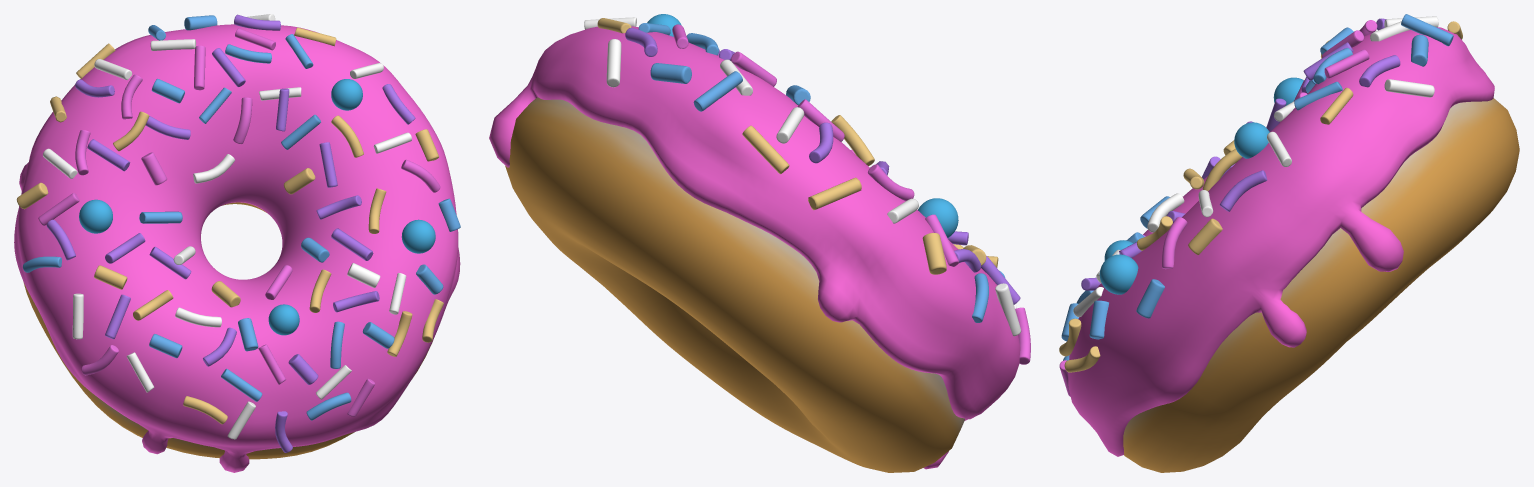
The model's file is donut.glb.
3 renders of one model, left to right at view 1: azimuth 30°, elevation 25°; view 2: azimuth 150°, elevation 25°; view 3: azimuth 270°, elevation 25°, orthographic. The views are drawn at different scales.
Visible parts, largest first — view 1: icing, donut, Sphere.003, Sphere.001, Sphere.004, Sphere.002, sprinkle.008, sprinkle.010, curved sprinkle.017, curved sprinkle.009, curved sprinkle.026, curved sprinkle.020 (+43 smaller); view 2: donut, icing, Sphere.003, sprinkle.016, sprinkle.017, sprinkle.019, fat sprinkle.005, curved sprinkle.021, fat sprinkle.015, sprinkle.007, sprinkle.006, curved sprinkle.002 (+5 smaller); view 3: icing, donut, Sphere.001, Sphere.004, curved sprinkle.004, sprinkle.019, curved sprinkle.018, sprinkle.007, fat sprinkle.016, fat sprinkle.009, curved sprinkle.028, curved sprinkle.005 (+8 smaller).
Part boxes in pixels (bbox=[...]): icing: bbox=[14, 24, 460, 472]; donut: bbox=[23, 202, 432, 459]; Sphere.003: bbox=[79, 199, 112, 233]; Sphere.001: bbox=[401, 219, 435, 253]; Sphere.004: bbox=[331, 79, 362, 110]; Sphere.002: bbox=[268, 304, 299, 335]; sprinkle.008: bbox=[331, 228, 373, 260]; sprinkle.010: bbox=[87, 139, 130, 171]; curved sprinkle.017: bbox=[306, 392, 351, 420]; curved sprinkle.009: bbox=[233, 97, 252, 143]; curved sprinkle.026: bbox=[333, 291, 379, 312]; curved sprinkle.020: bbox=[330, 321, 344, 368]; donut: bbox=[505, 97, 964, 472]; icing: bbox=[489, 26, 1020, 469]; Sphere.003: bbox=[918, 198, 958, 237]; sprinkle.016: bbox=[808, 177, 861, 210]; sprinkle.017: bbox=[742, 125, 789, 174]; sprinkle.019: bbox=[693, 71, 742, 111]; fat sprinkle.005: bbox=[922, 233, 946, 274]; curved sprinkle.021: bbox=[831, 115, 874, 165]; fat sprinkle.015: bbox=[650, 63, 691, 83]; sprinkle.007: bbox=[606, 39, 621, 87]; sprinkle.006: bbox=[995, 283, 1021, 336]; curved sprinkle.002: bbox=[867, 164, 914, 201]; icing: bbox=[1068, 27, 1494, 456]; donut: bbox=[1123, 98, 1519, 472]; Sphere.001: bbox=[1099, 254, 1138, 294]; Sphere.004: bbox=[1234, 122, 1269, 158]; curved sprinkle.004: bbox=[1219, 170, 1267, 211]; sprinkle.019: bbox=[1401, 14, 1453, 46]; curved sprinkle.018: bbox=[1162, 217, 1187, 269]; sprinkle.007: bbox=[1384, 79, 1434, 97]; fat sprinkle.016: bbox=[1188, 218, 1222, 255]; fat sprinkle.009: bbox=[1136, 279, 1164, 318]; curved sprinkle.028: bbox=[1359, 55, 1400, 87]; curved sprinkle.005: bbox=[1202, 148, 1241, 190].
Bounding box in the file's own units: 0.099 × 0.0885 × 0.0841.
83 materials, 1 textured.
